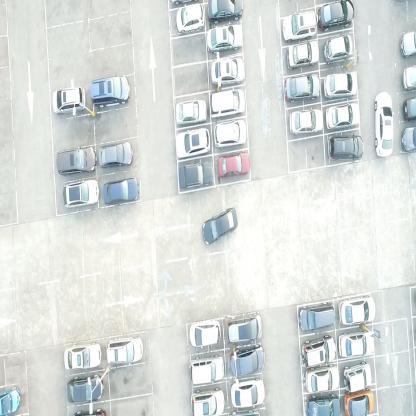car: (202, 205, 238, 246), (90, 72, 130, 108), (56, 144, 96, 177), (106, 333, 144, 366), (374, 89, 392, 158), (301, 335, 337, 369), (318, 0, 355, 33), (339, 293, 376, 326), (230, 343, 265, 377), (226, 312, 263, 344), (205, 25, 243, 56), (62, 178, 100, 209), (66, 373, 104, 404), (281, 10, 316, 43), (176, 126, 211, 159), (284, 72, 320, 104), (63, 341, 101, 371), (230, 376, 265, 408), (210, 88, 246, 119), (298, 300, 334, 331), (99, 138, 134, 169), (190, 355, 224, 386), (323, 69, 358, 99), (178, 160, 214, 189), (103, 176, 139, 205), (190, 386, 226, 415), (338, 331, 375, 359), (52, 86, 86, 116), (306, 364, 340, 394), (324, 102, 360, 130), (288, 108, 324, 136), (210, 57, 244, 86), (207, 0, 244, 26), (287, 39, 318, 70), (323, 32, 353, 64), (174, 2, 204, 34), (214, 118, 247, 147), (218, 150, 251, 179), (328, 135, 364, 161), (175, 96, 207, 125), (344, 362, 374, 392), (189, 319, 221, 347), (305, 394, 342, 416), (344, 390, 376, 415), (0, 383, 20, 415), (400, 30, 416, 58), (400, 125, 416, 152), (401, 64, 415, 91), (402, 95, 416, 122)
